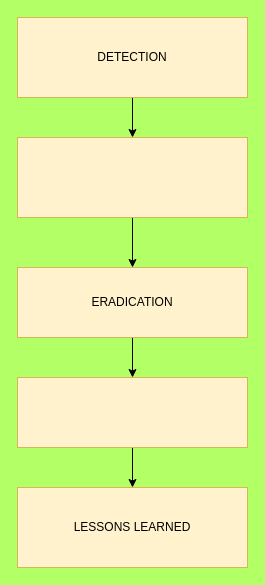
This 265x585 diagram has some shape labels left out. Here are the shapes that lost their labels. From the top down, the centre of each, then its label:
point 132,177: CONTAINMENT
point 132,412: RECOVERY
